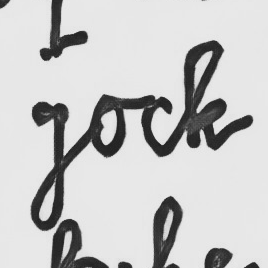c: (137, 92, 175, 161)
j: (27, 98, 72, 232)
k: (179, 37, 232, 152)
o: (88, 91, 129, 158)
